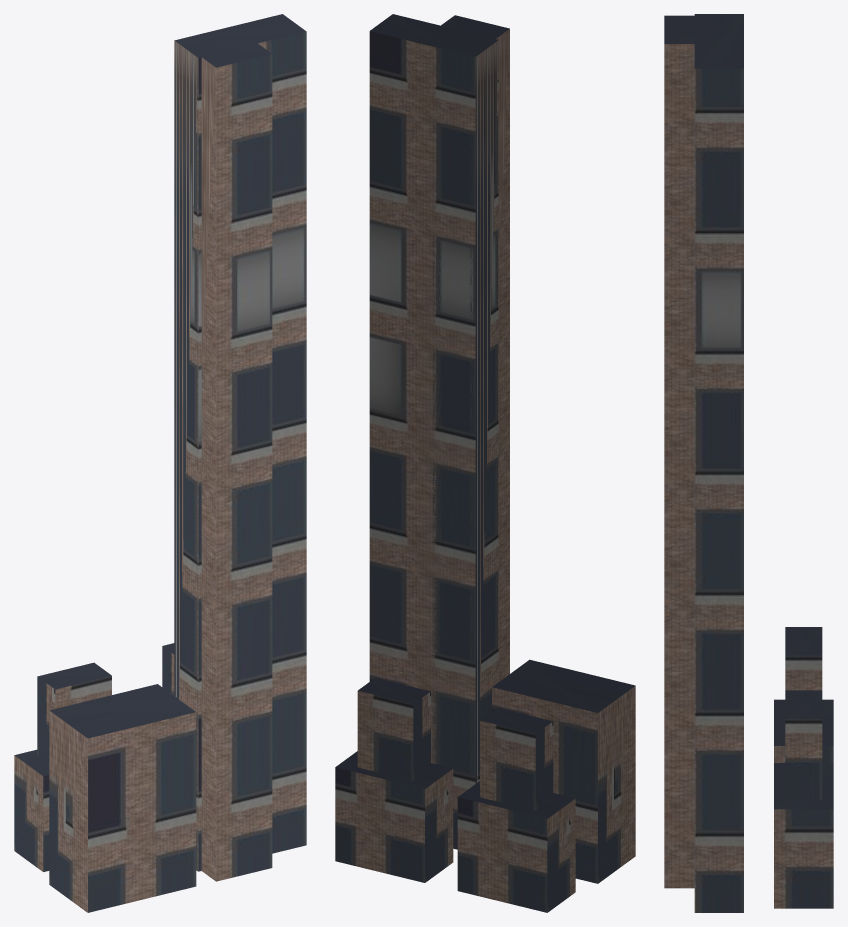
File: city_block_12345_6_05.glb
3 views of the same model, side by side, from view 1: azimuth 30°, elevation 25°; view 2: azimuth 150°, elevation 25°; view 3: azimuth 270°, elevation 25° (orthographic). The views are drawn at different scales.
Parts seen in each view (by area): view 1: block_05; view 2: block_05; view 3: block_05.
Part boxes in pixels (left/top/right/bottom): block_05: left=14, top=14, right=306, bottom=912; block_05: left=335, top=14, right=635, bottom=912; block_05: left=664, top=14, right=833, bottom=912.
Bounding box in the file's own units: 4.2 × 14 × 2.55.
4 materials, 4 textured.
